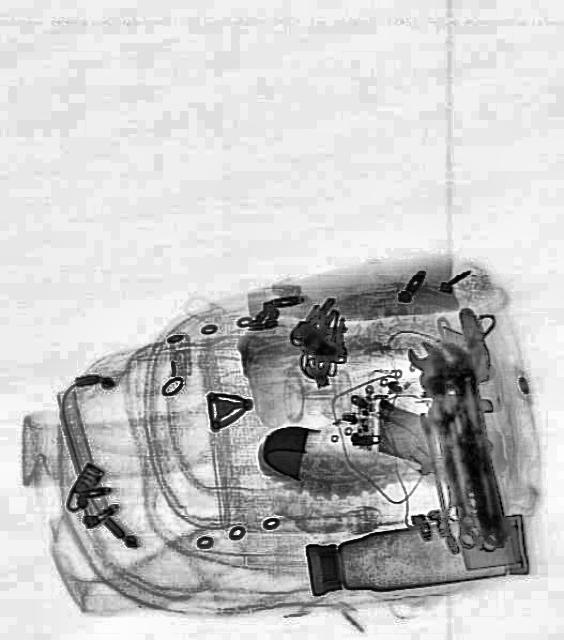Pliers: (404, 336, 484, 552)
